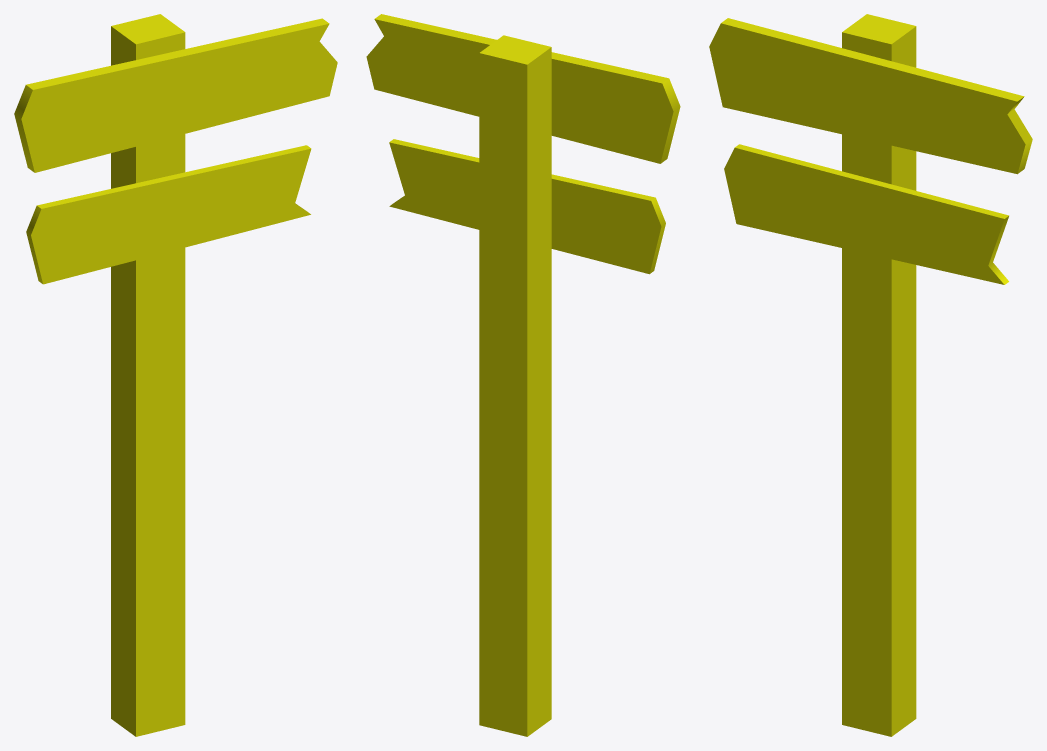
3 views of the same model, side by side, from view 1: azimuth 30°, elevation 25°; view 2: azimuth 150°, elevation 25°; view 3: azimuth 330°, elevation 25° (orthographic). The views are drawn at different scales.
Visible parts, largest first — view 1: wood; view 2: wood; view 3: wood.
Part boxes in pixels (bbox=[...]): wood: bbox=[14, 14, 337, 736]; wood: bbox=[366, 14, 680, 736]; wood: bbox=[709, 14, 1032, 736].
Size of the model in its own units: 5 by 10.45 by 0.9324.
1 material, 1 textured.
